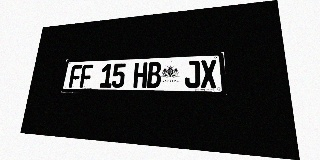1: (99, 64, 114, 88)
5: (112, 63, 126, 88)
B: (147, 62, 161, 88)
F: (79, 64, 93, 88), (69, 65, 82, 88)
H: (133, 62, 148, 88)
J: (185, 60, 200, 88)
X: (200, 60, 217, 88)
